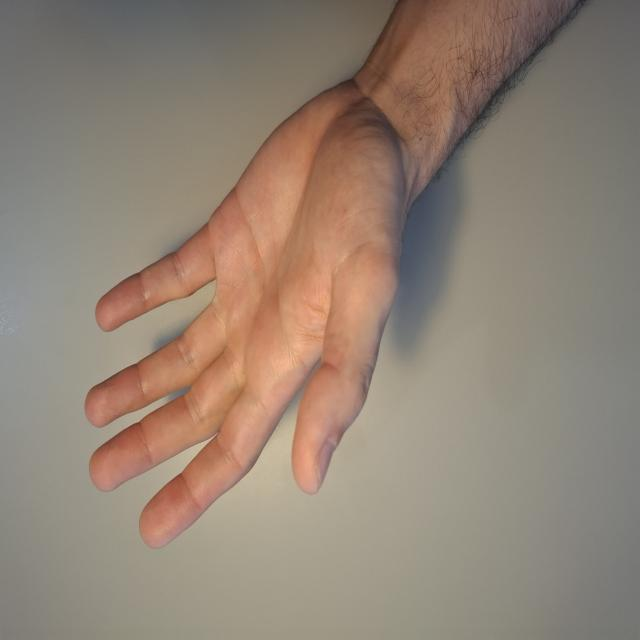glove_off: (82, 64, 420, 554)
